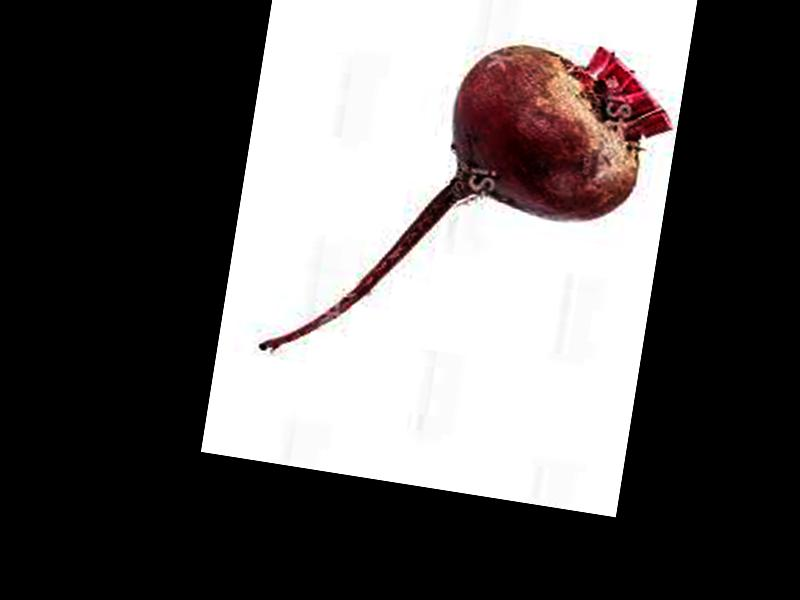Beet: (260, 4, 682, 408)
